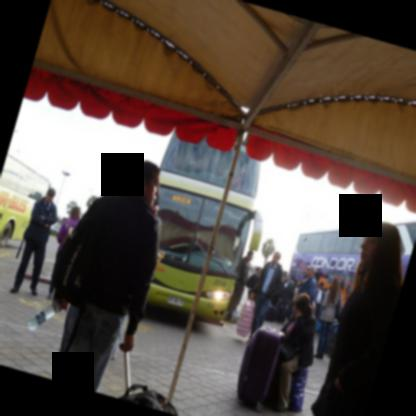backpack: (50, 207, 110, 307), (245, 273, 257, 288)
handbag: (44, 190, 111, 310), (280, 341, 302, 362), (335, 295, 341, 319)
suitcase: (236, 326, 284, 412), (118, 390, 179, 416), (266, 306, 277, 322), (277, 308, 287, 323)
